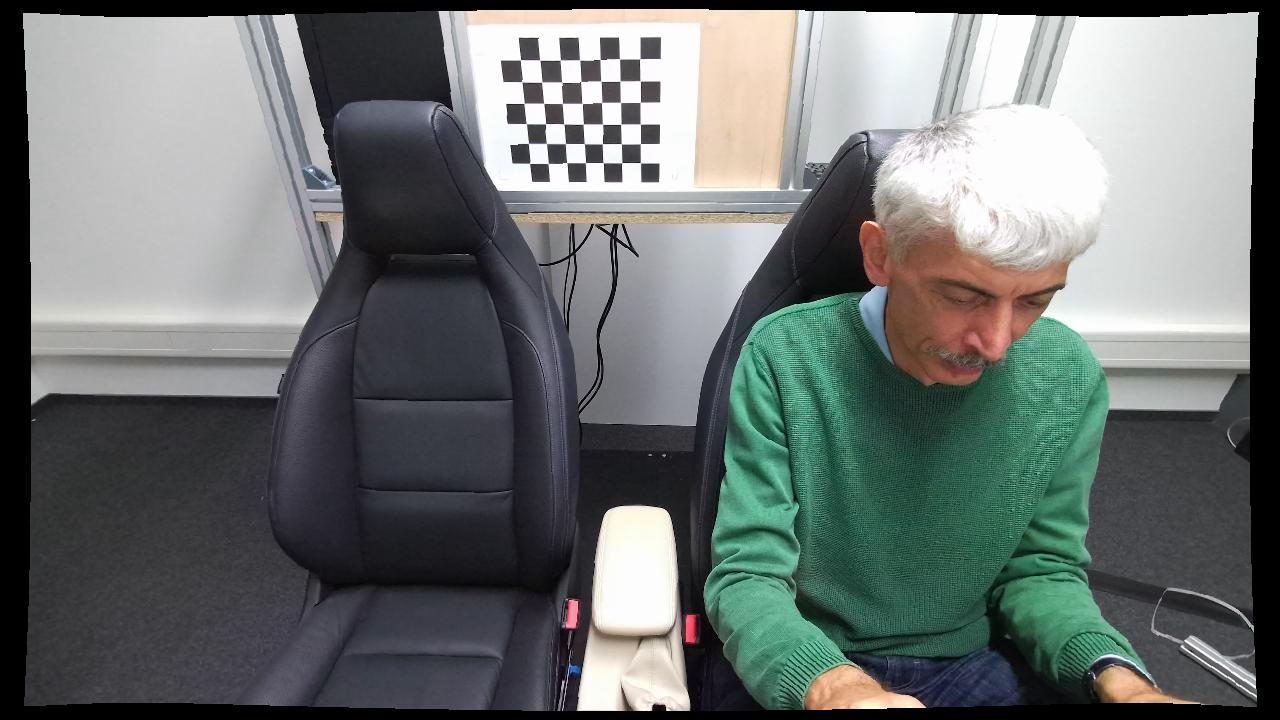SafeDriving: (701, 107, 1124, 714)
